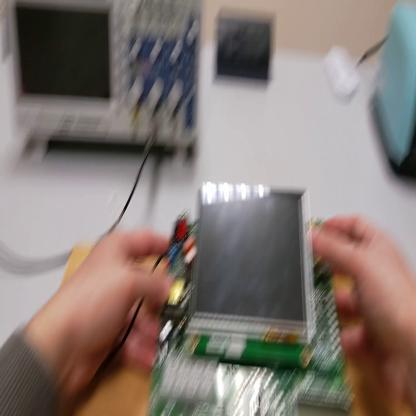hand: (56, 224, 178, 391), (310, 211, 416, 396)
low voltage board: (104, 190, 354, 412)
oscilloscope: (8, 4, 207, 172)
welder station: (375, 6, 414, 177)
working area: (63, 228, 390, 416)
